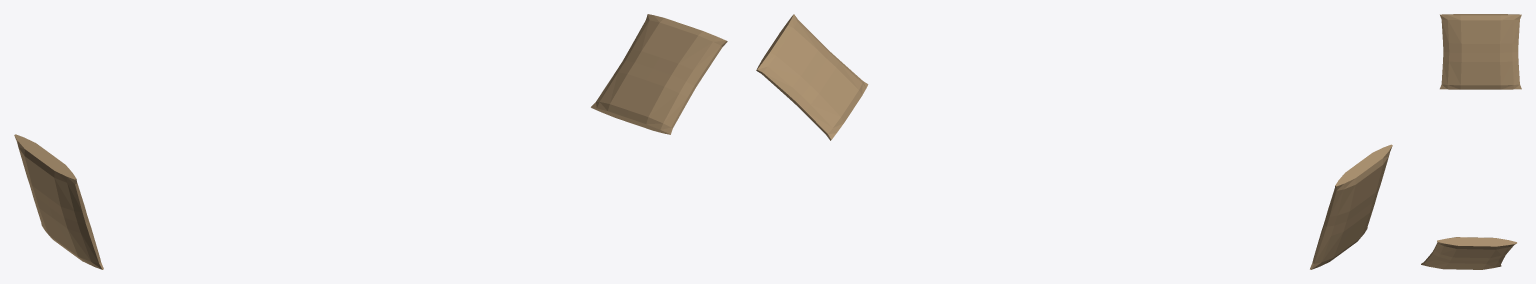
The model's file is sofa_1.obj.
3 views of the same model, side by side, from view 1: azimuth 30°, elevation 25°; view 2: azimuth 150°, elevation 25°; view 3: azimuth 270°, elevation 25° (orthographic). The views are drawn at different scales.
Size of the model in its own units: 5.49 by 0.8137 by 1.08.
